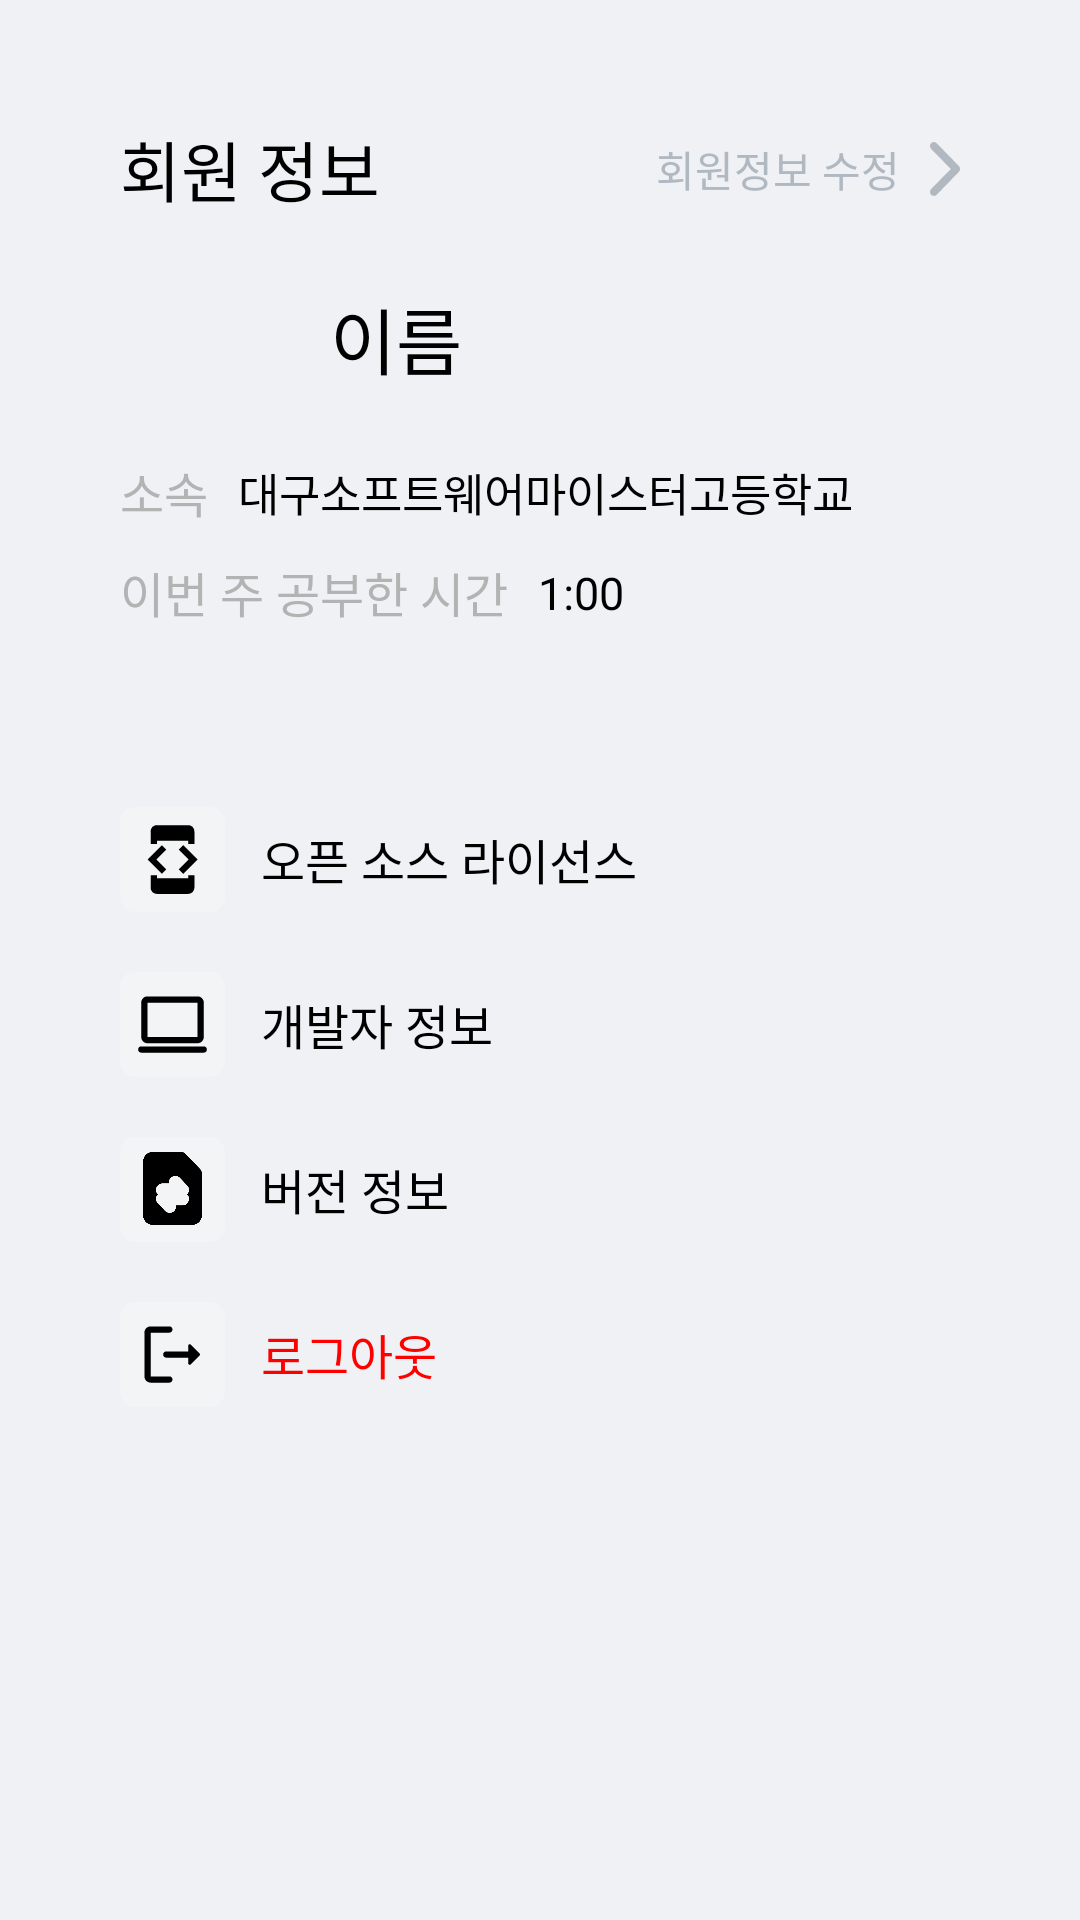

Icon click points for this 1080w x 1920h phone screenshot, format point (x, y):
arrow mini: point (945, 169)
developer information: point (172, 1024)
open source library: point (172, 859)
version information: point (172, 1188)
